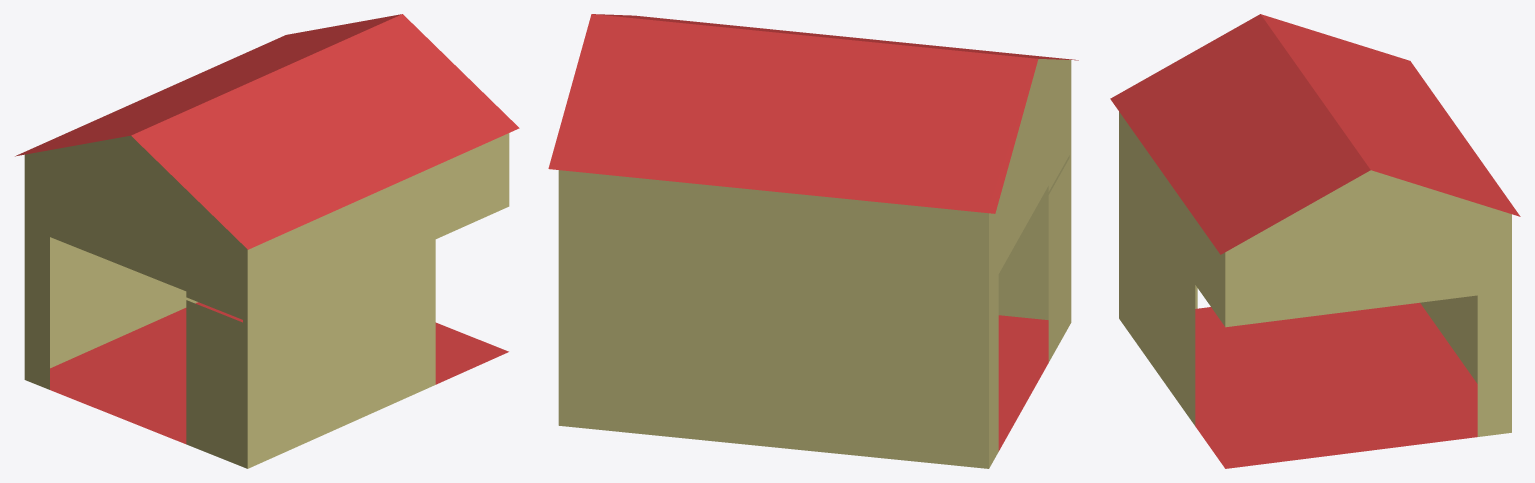
3 views of the same model, side by side, from view 1: azimuth 30°, elevation 25°; view 2: azimuth 150°, elevation 25°; view 3: azimuth 270°, elevation 25° (orthographic). The views are drawn at different scales.
Size of the model in its own units: 16.09 by 14.39 by 10.96.
